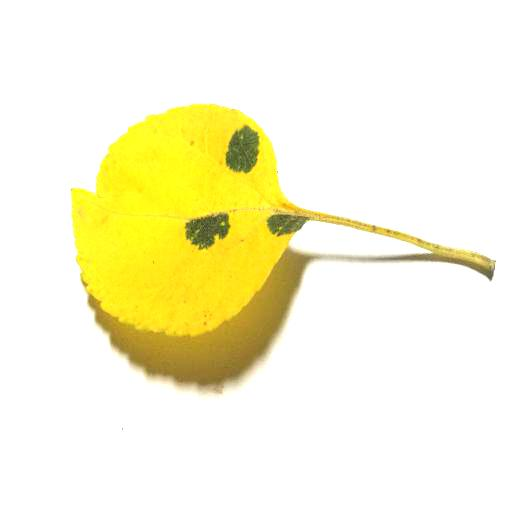Brown_Spot: (189, 203, 225, 249), (222, 125, 257, 169), (269, 205, 303, 235)
